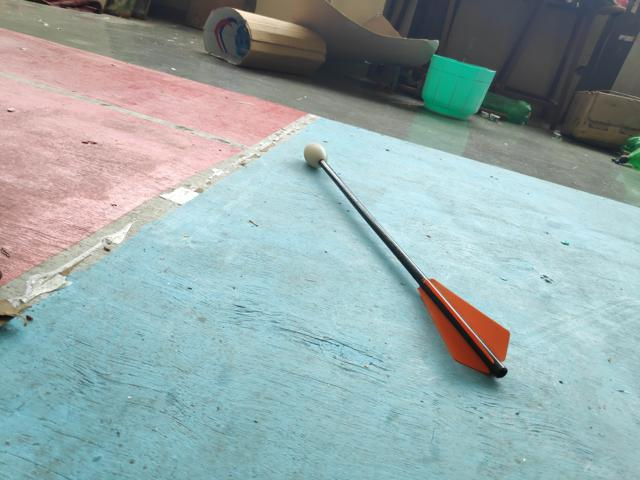Head: (299, 142, 329, 170)
Tail: (415, 275, 513, 386)
